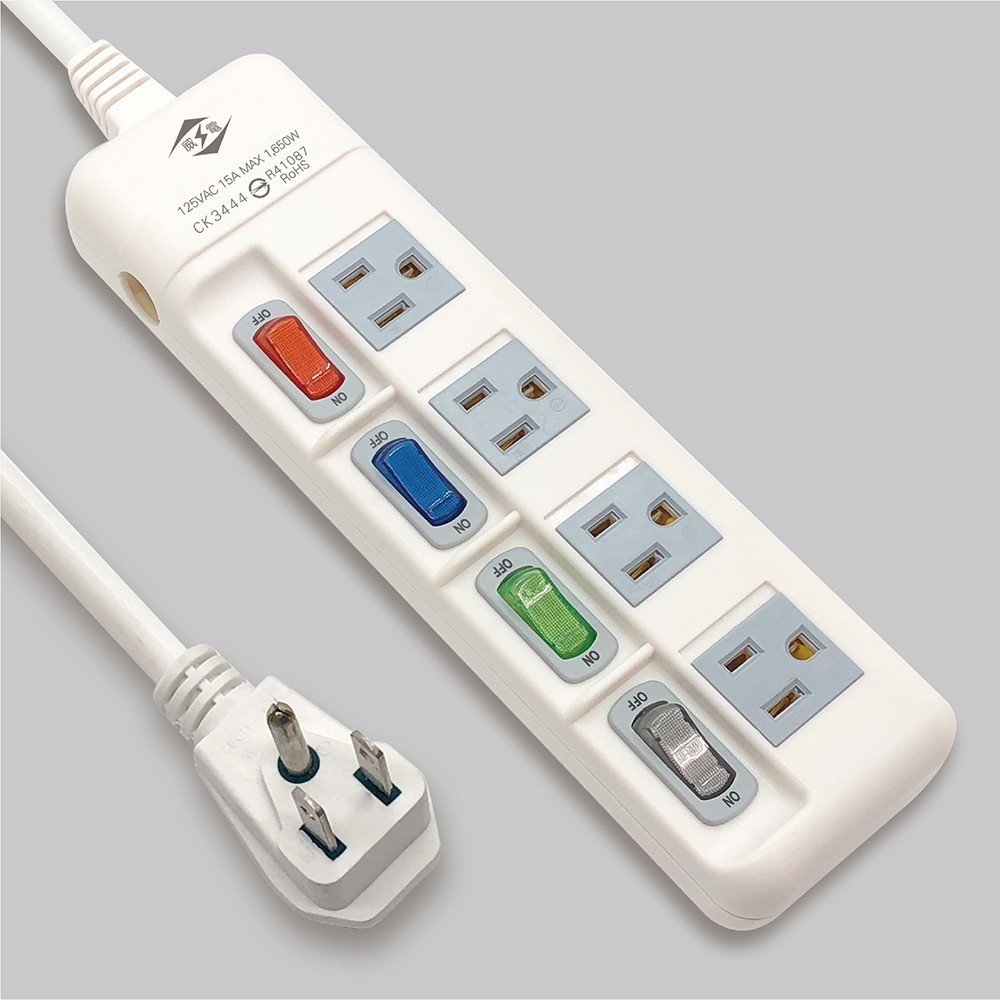socket: (66, 34, 957, 935)
